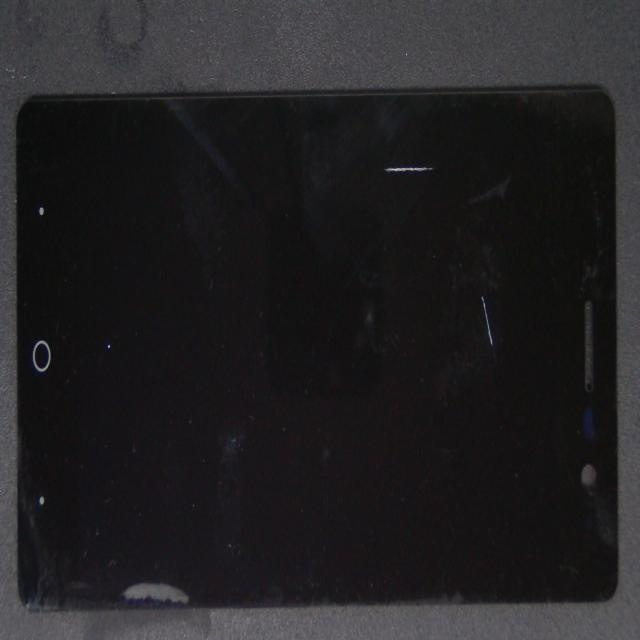scratch: (258, 121, 640, 420), (253, 80, 640, 232)
